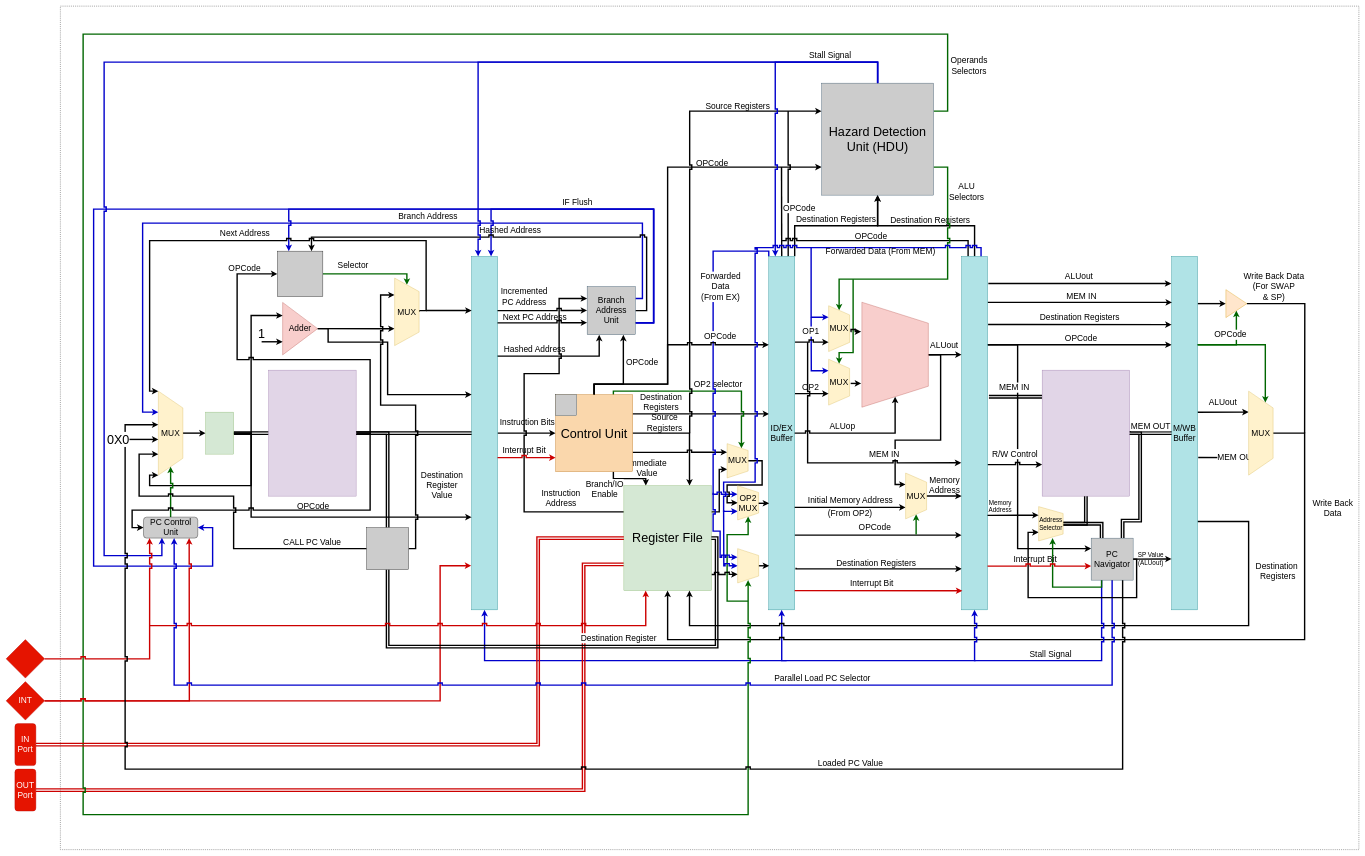
Some shapes in this 1365 by 856 pixel diagram are drawn without their labels. The centre of each missing label's shape, as x and y in pixels:
2-Bit Branch Predictor: (x=300, y=274)
ALU: (x=895, y=354)
Data Memory: (x=1086, y=433)
EX/M Buffer: (x=974, y=433)
IF/ID Buffer: (x=484, y=433)
Instruction Memory: (x=312, y=433)
OP1 MUX: (x=748, y=565)
PC: (x=219, y=433)
Register Extractor: (x=387, y=548)
RESET: (x=25, y=658)
Sign Extend: (x=566, y=405)
